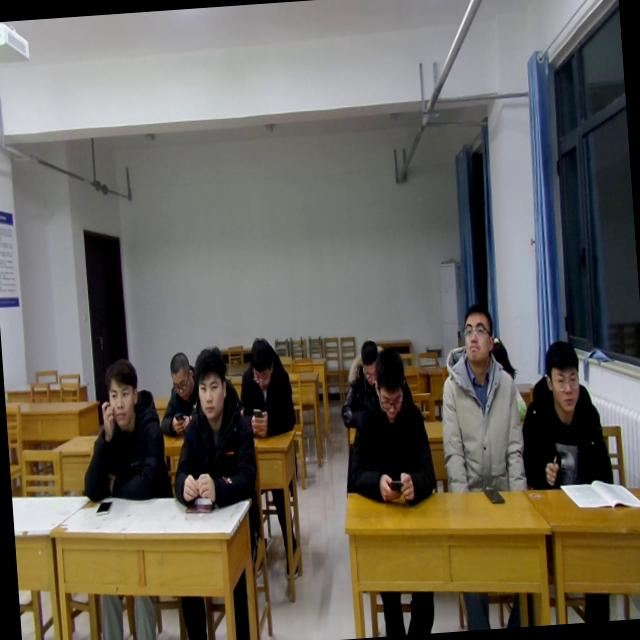bow: (334, 336, 388, 431), (153, 350, 205, 436)
down: (370, 348, 410, 426), (243, 330, 275, 390), (165, 348, 195, 400), (354, 336, 380, 386)
lookup: (538, 336, 588, 419), (190, 338, 231, 421), (100, 354, 142, 429), (458, 302, 498, 372)
sit: (433, 303, 529, 503), (160, 345, 260, 517), (338, 350, 438, 510), (516, 334, 614, 492), (74, 352, 170, 506), (234, 332, 298, 441)
